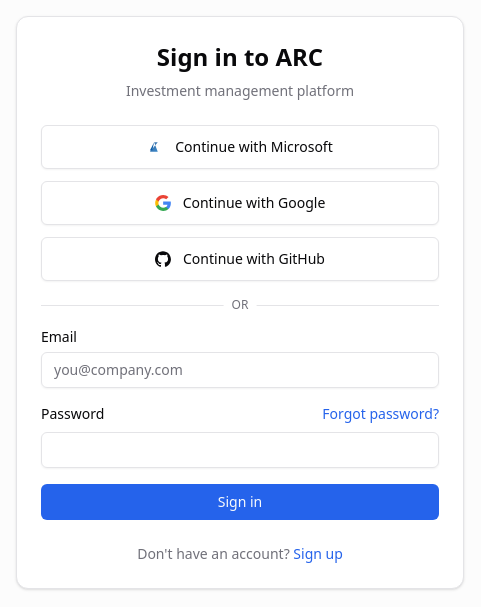
Test case: LoginPage › SSO Button Interactions › shows loading state for clicked provider
What coordinates should you click on to do the following:
click the button "Continue with Microsoft"
I would click on:
 (240, 146)
Its box is top-left (41, 124), bottom-right (439, 168).
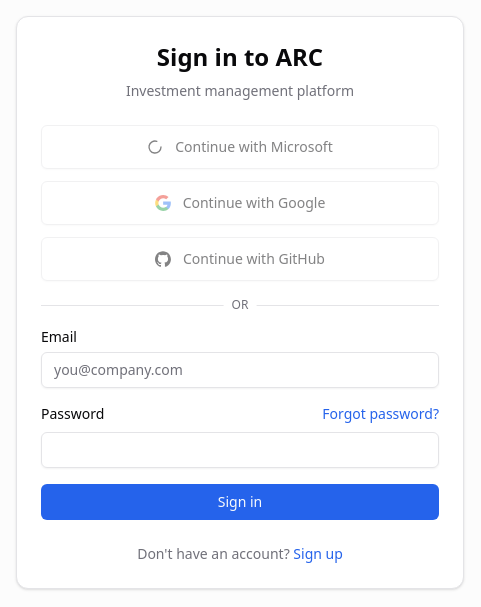
Result: the icon with test id "loading-spinner" is shown at top-left (147, 138), bottom-right (163, 154)
